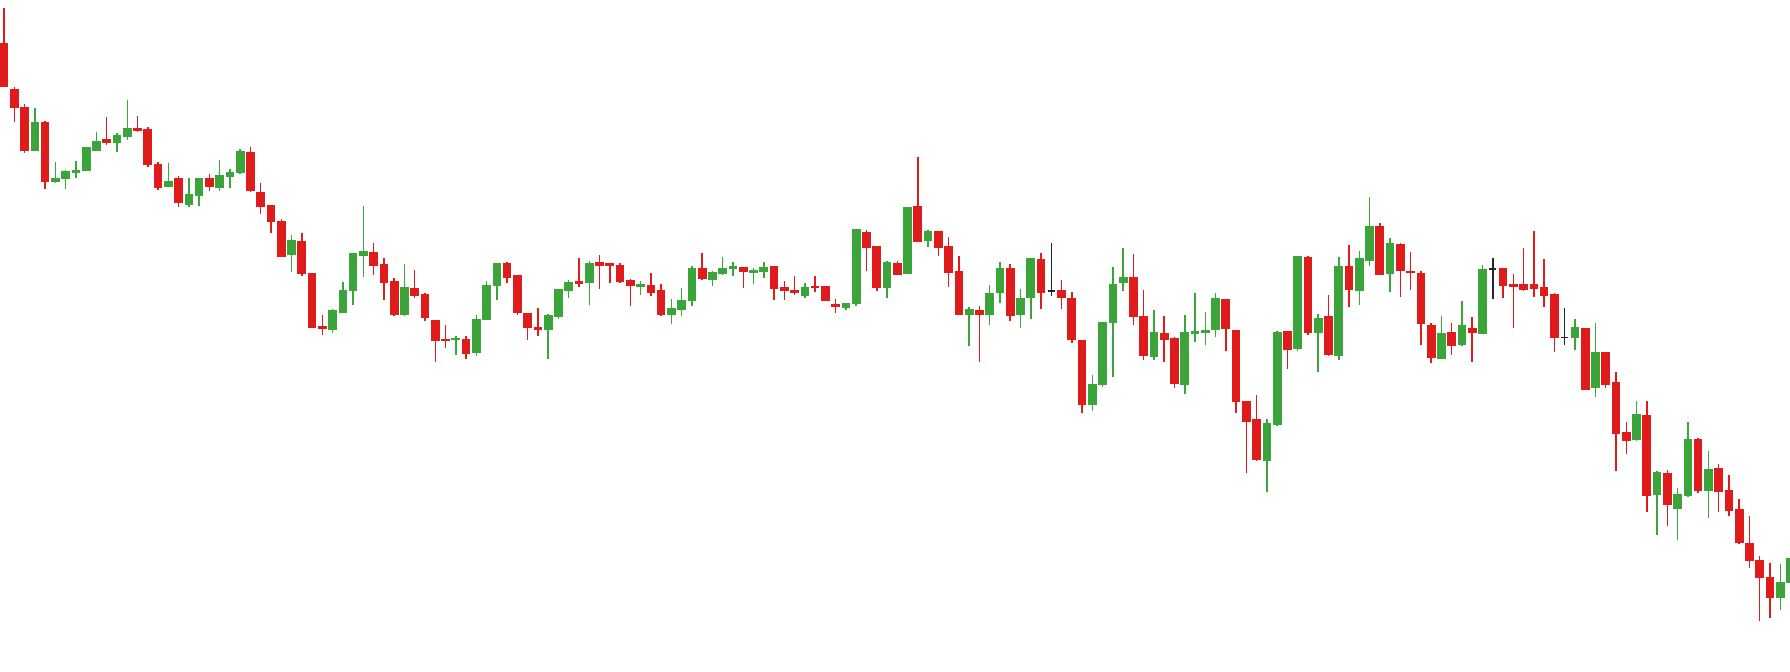buy: (1077, 311, 1282, 489), (459, 291, 553, 364)
sell: (849, 160, 926, 272), (1487, 230, 1538, 316)
